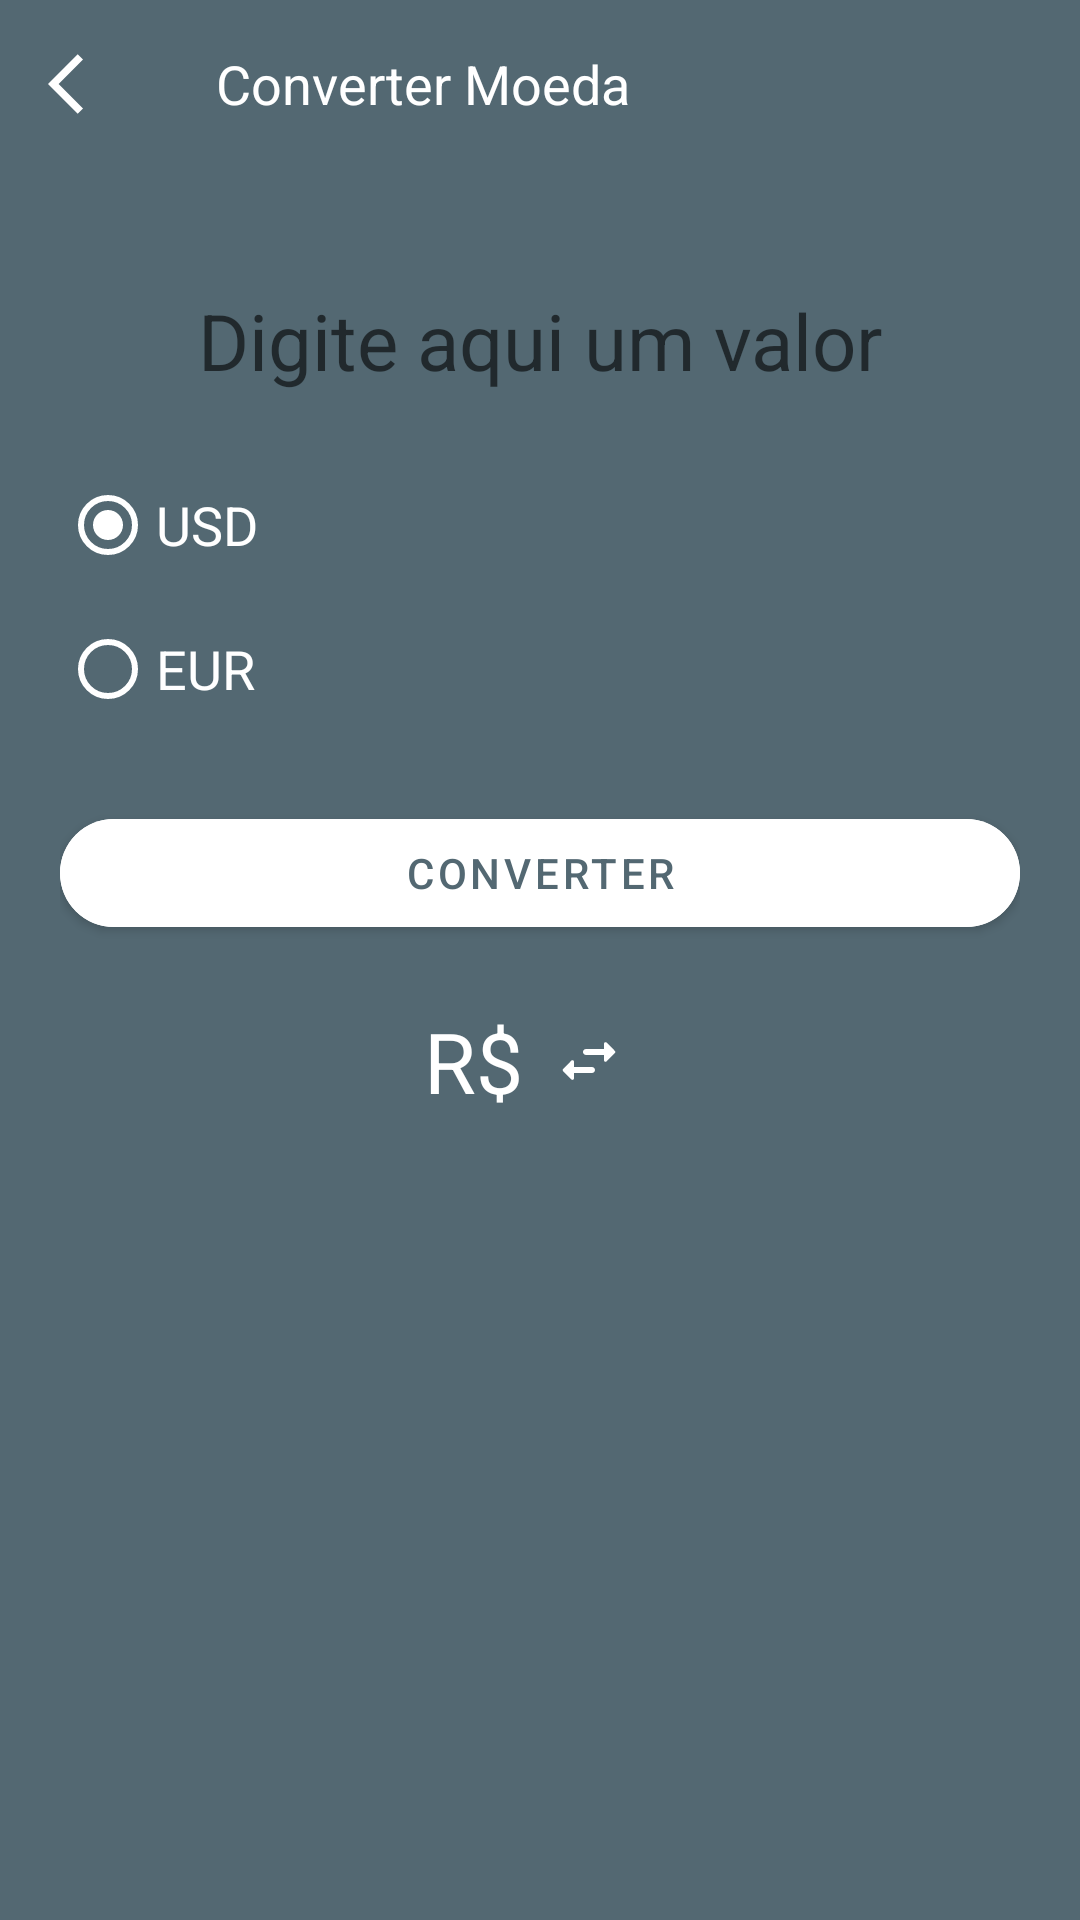

Point at icon controls on the screen. Image size 1080 × 1920, points as [x,y].
swap: [589,1061]
